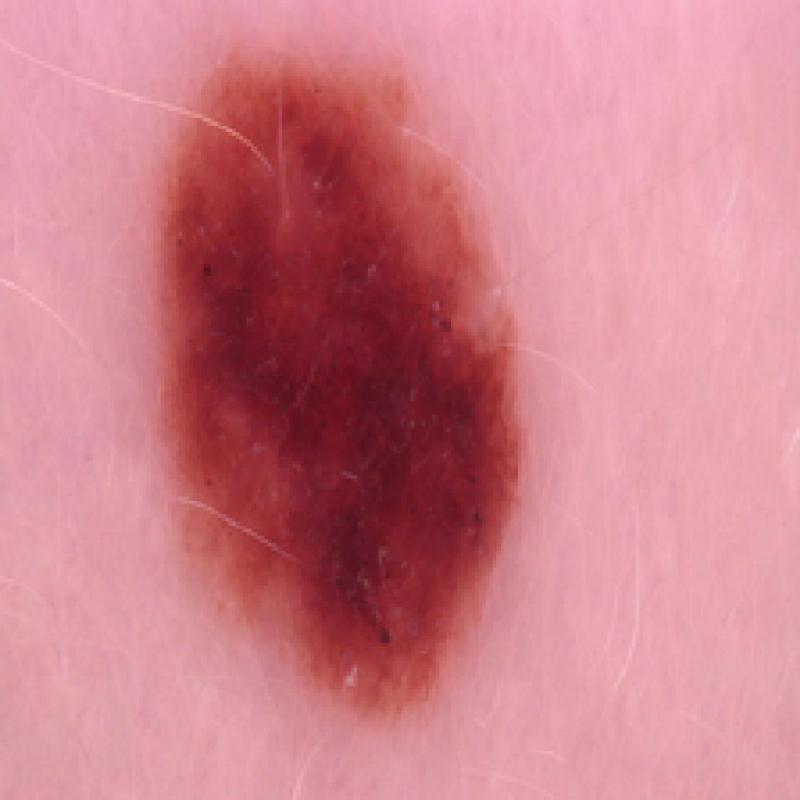benign: (152, 36, 530, 729)
